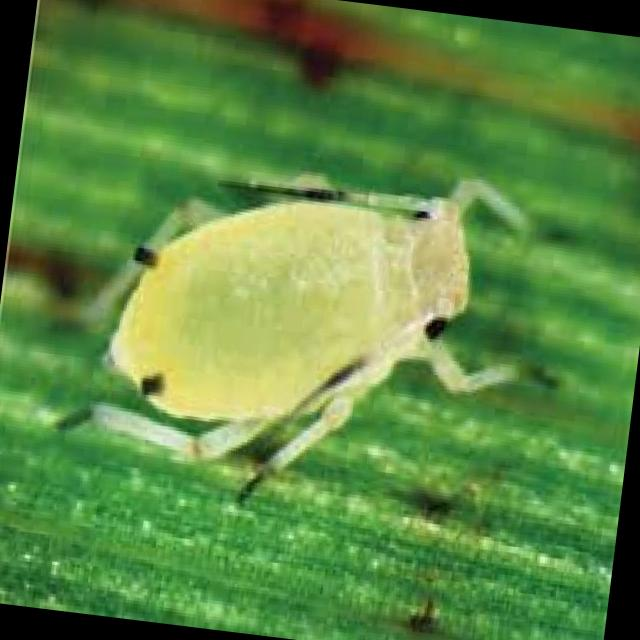aphid: (39, 73, 584, 548)
